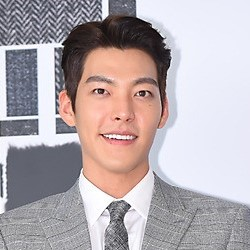unmask: (70, 46, 164, 174)
